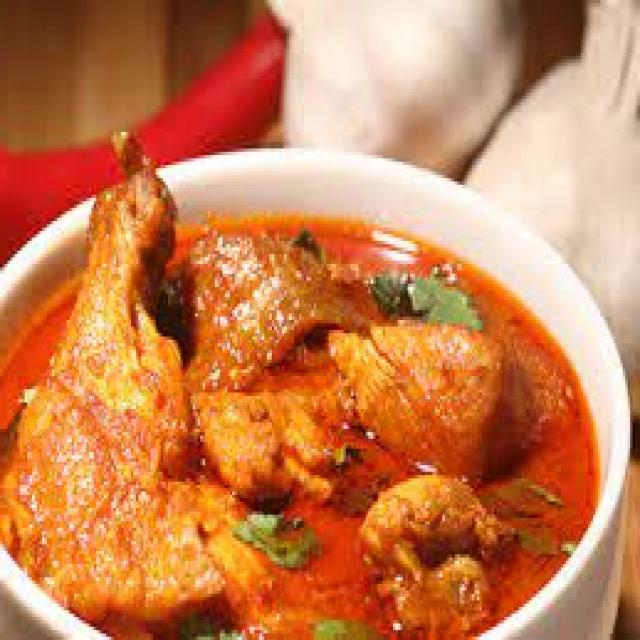Chicken Curry: (10, 138, 590, 636)
